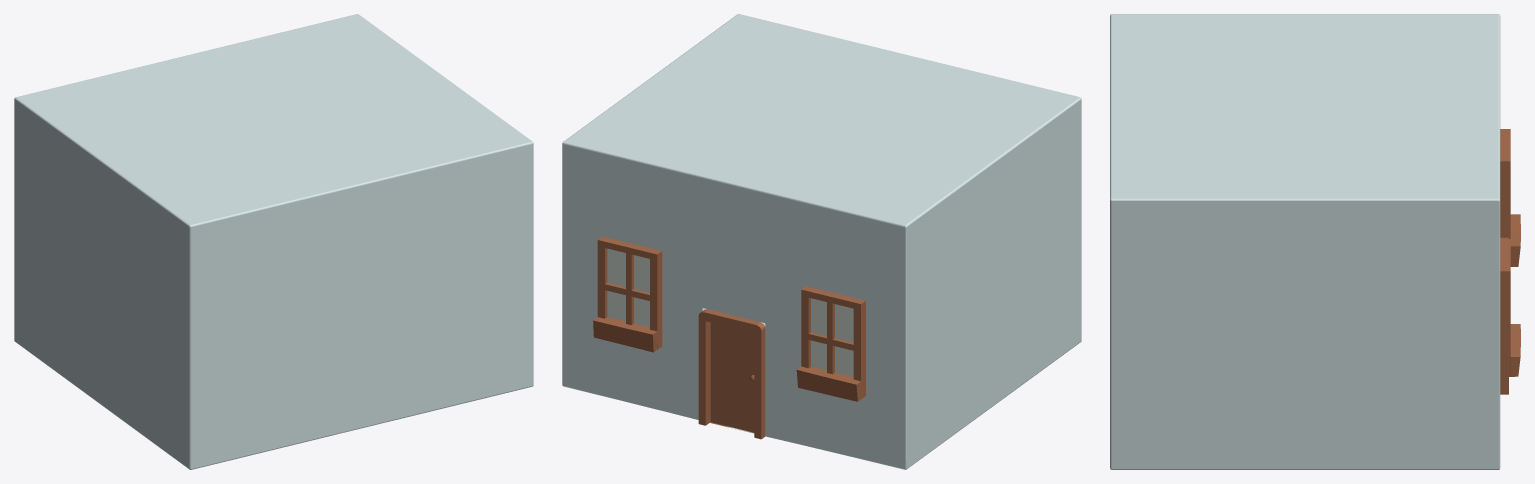
The model's file is low poly house.fbx.
The picture shows the model from 3 angles, left to right: view 1: azimuth 30°, elevation 25°; view 2: azimuth 150°, elevation 25°; view 3: azimuth 270°, elevation 25°; orthographic projection. The views are drawn at different scales.
Visible parts, largest first — view 1: Cube; view 2: Cube, window, door, window.001; view 3: Cube, window.
Part boxes in pixels (left/top/right/bottom): Cube: left=14, top=14, right=533, bottom=469; Cube: left=562, top=14, right=1081, bottom=469; window: left=593, top=236, right=865, bottom=401; door: left=698, top=309, right=765, bottom=439; window.001: left=607, top=248, right=853, bottom=376; Cube: left=1110, top=14, right=1500, bottom=469; window: left=1500, top=129, right=1520, bottom=376.
Size of the model in its own units: 100 by 67.91 by 93.26.
